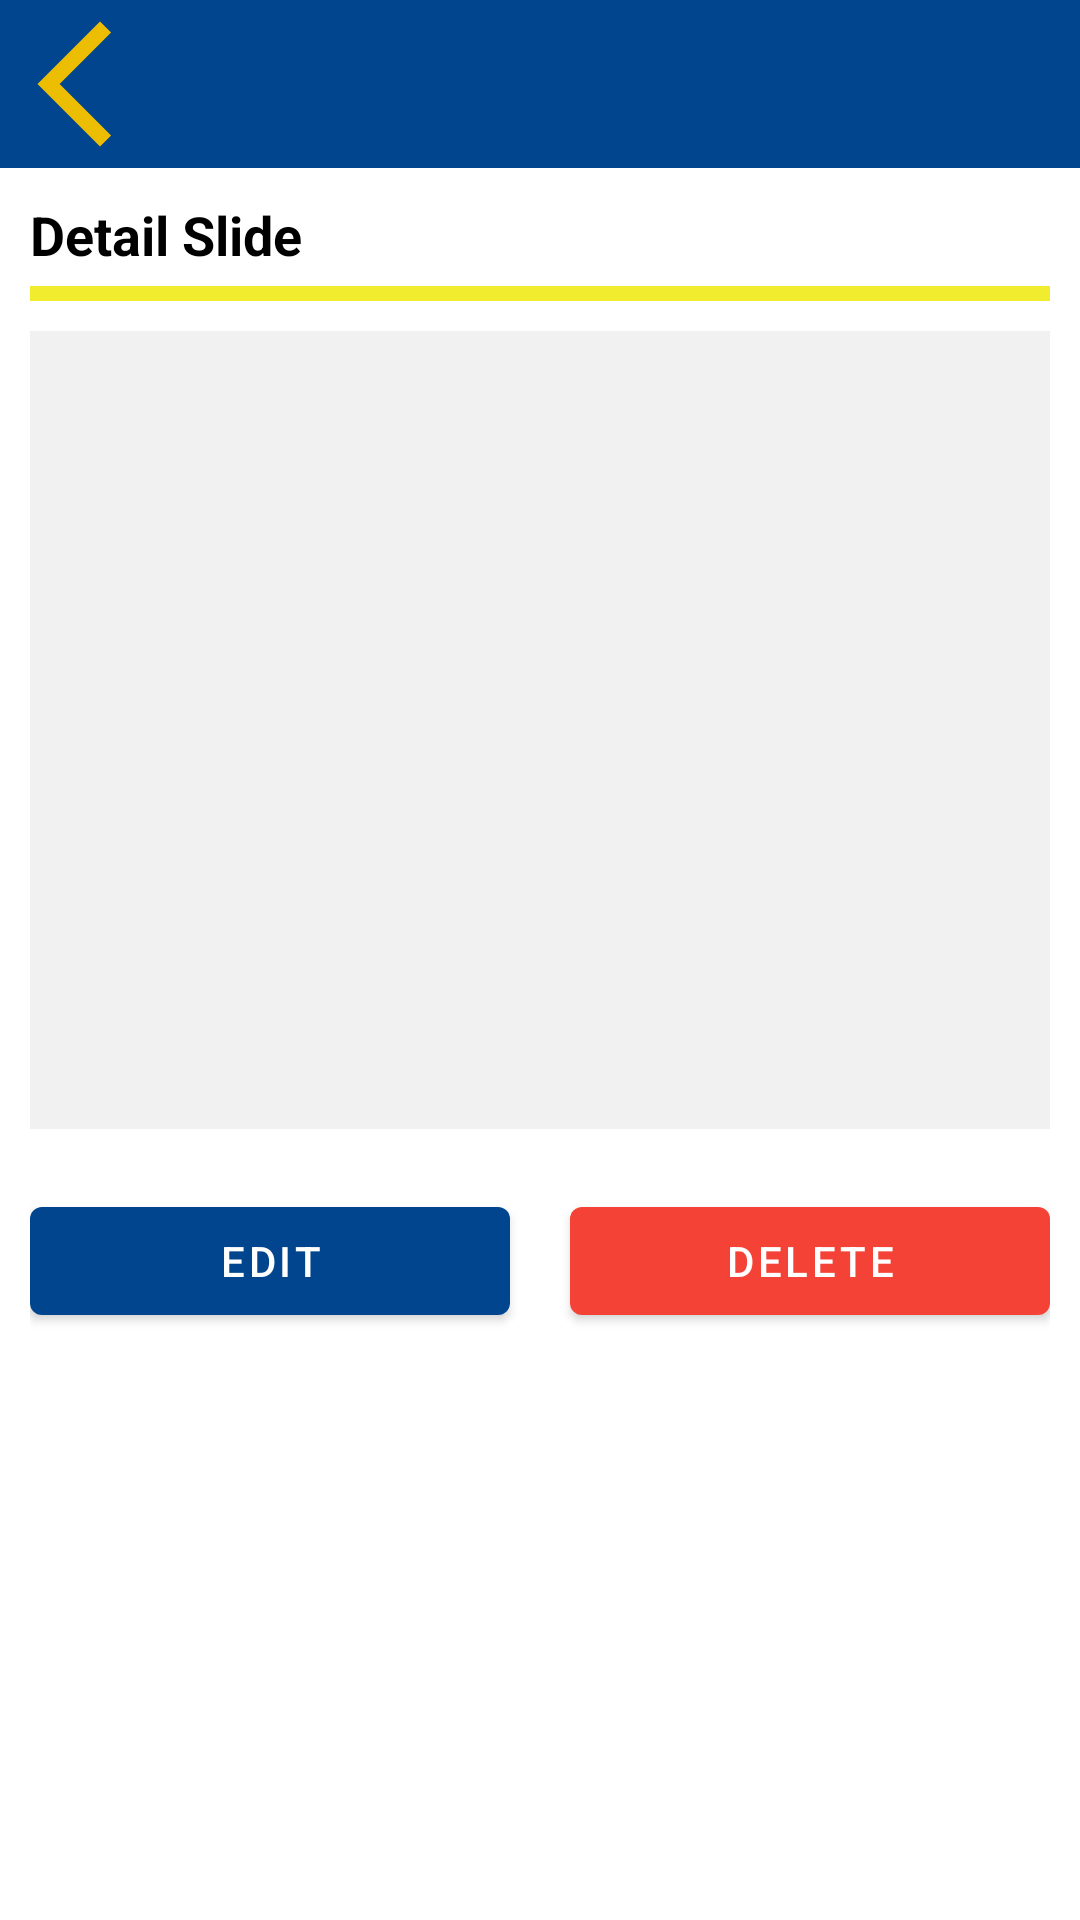

Icon click points for this 1080x1920 phone screenshot, format point (x, y):
arrow back: point (74, 84)
